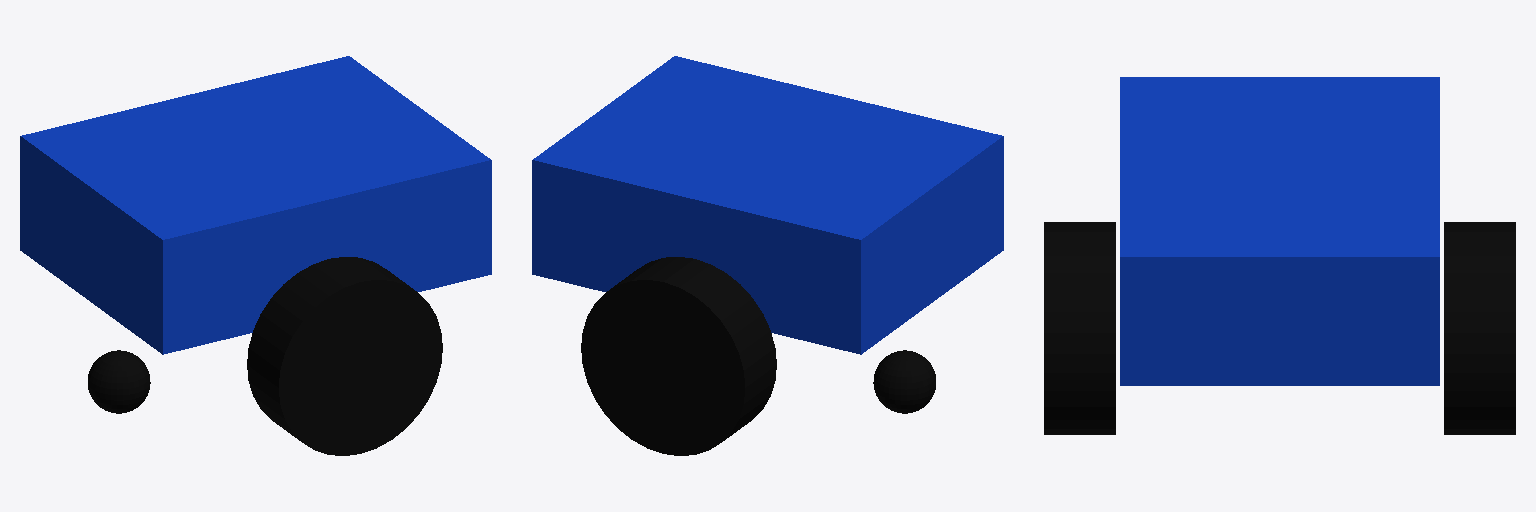
The robot description file, URDF, robot "learning_bot":
<?xml version="1.0"?>
<robot name="learning_bot">
  <material name="blue"><color rgba="0.1 0.3 0.8 1"/></material>
  <material name="dark"><color rgba="0.08 0.08 0.08 1"/></material>
  <link name="base_link">
    <inertial><mass value="1"/><inertia ixx="0.001" ixy="0" ixz="0" iyy="0.0015" iyz="0" izz="0.002"/></inertial>
    <visual><geometry><box size="0.12 0.09 0.04"/></geometry><material name="blue"/></visual>
    <collision><geometry><box size="0.12 0.09 0.04"/></geometry></collision>
  </link>
  <link name="left_wheel">
    <inertial><mass value="0.05"/><inertia ixx="0.000015" ixy="0" ixz="0" iyy="0.0000225" iyz="0" izz="0.000015"/></inertial>
    <visual><origin rpy="1.57079632679 0 0"/><geometry><cylinder radius="0.03" length="0.02"/></geometry><material name="dark"/></visual>
    <collision><origin rpy="1.57079632679 0 0"/><geometry><cylinder radius="0.03" length="0.02"/></geometry></collision>
  </link>
  <link name="right_wheel">
    <inertial><mass value="0.05"/><inertia ixx="0.000015" ixy="0" ixz="0" iyy="0.0000225" iyz="0" izz="0.000015"/></inertial>
    <visual><origin rpy="1.57079632679 0 0"/><geometry><cylinder radius="0.03" length="0.02"/></geometry><material name="dark"/></visual>
    <collision><origin rpy="1.57079632679 0 0"/><geometry><cylinder radius="0.03" length="0.02"/></geometry></collision>
  </link>
  <link name="caster">
    <inertial><mass value="0.01"/><inertia ixx="0.0000004" ixy="0" ixz="0" iyy="0.0000004" iyz="0" izz="0.0000004"/></inertial>
    <visual><geometry><sphere radius="0.01"/></geometry><material name="dark"/></visual>
    <collision><geometry><sphere radius="0.01"/></geometry></collision>
  </link>
  <joint name="left_wheel_joint" type="continuous">
    <parent link="base_link"/><child link="left_wheel"/>
    <origin xyz="0 0.05625 -0.03"/><axis xyz="0 1 0"/>
    <limit effort="2" velocity="30"/>
  </joint>
  <joint name="right_wheel_joint" type="continuous">
    <parent link="base_link"/><child link="right_wheel"/>
    <origin xyz="0 -0.05625 -0.03"/><axis xyz="0 1 0"/>
    <limit effort="2" velocity="30"/>
  </joint>
  <joint name="caster_joint" type="fixed">
    <parent link="base_link"/><child link="caster"/><origin xyz="-0.05 0 -0.05"/>
  </joint>
</robot>

--- Render facts (derived) ---
Views: 3 orthographic renders of the robot side by side, from view 1: azimuth 30°, elevation 25°; view 2: azimuth 150°, elevation 25°; view 3: azimuth 270°, elevation 25°.
Model learning_bot with 4 links and 3 joints (2 continuous, 1 fixed), rooted at base_link, posed all joints at 0.
Visible links, largest first — view 1: base_link, right_wheel, caster; view 2: base_link, left_wheel, caster; view 3: base_link, left_wheel, right_wheel.
Link boxes in pixels (x1,y1,x2,y2): base_link: (20, 56, 491, 354); right_wheel: (247, 257, 442, 455); caster: (88, 350, 150, 413); base_link: (532, 56, 1003, 354); left_wheel: (581, 257, 776, 455); caster: (873, 350, 935, 413); base_link: (1120, 77, 1439, 385); left_wheel: (1444, 222, 1515, 434); right_wheel: (1044, 222, 1115, 434).
Size in the robot's own frame: 0.12 by 0.1325 by 0.08 metres.
Geometry: primitives only (box / cylinder / sphere), no mesh files.
